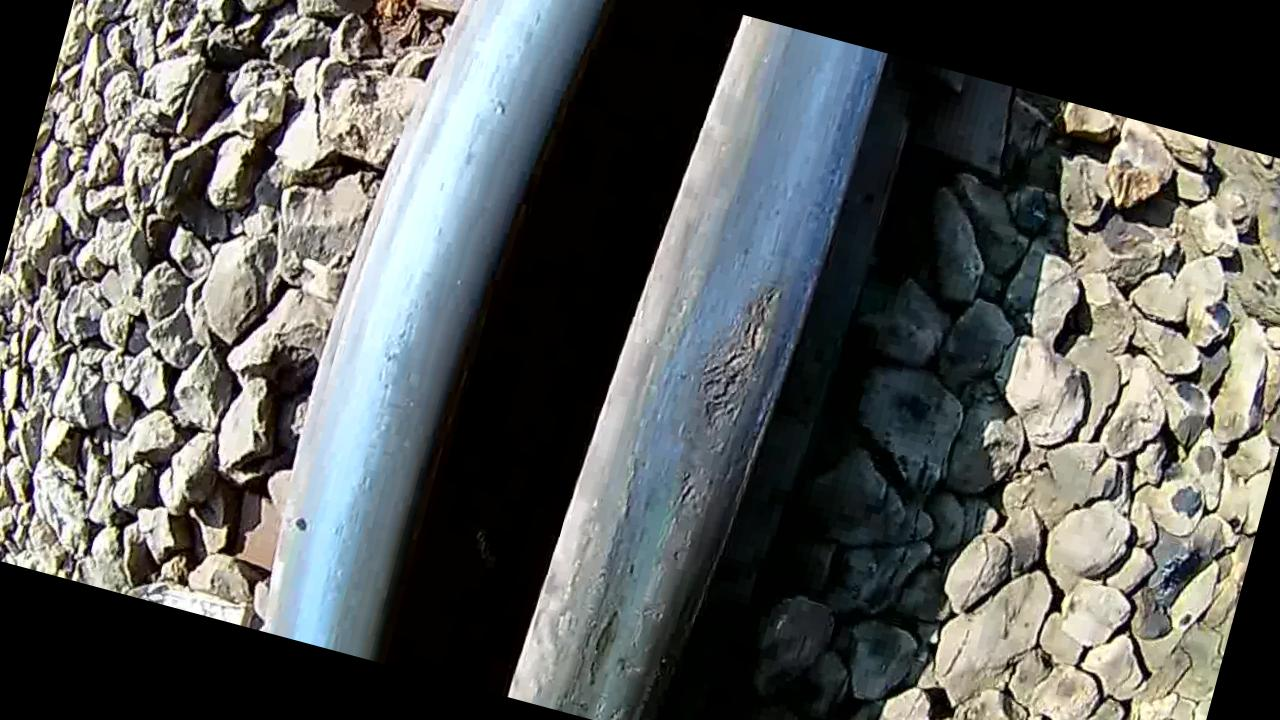crack: (520, 153, 844, 720)
